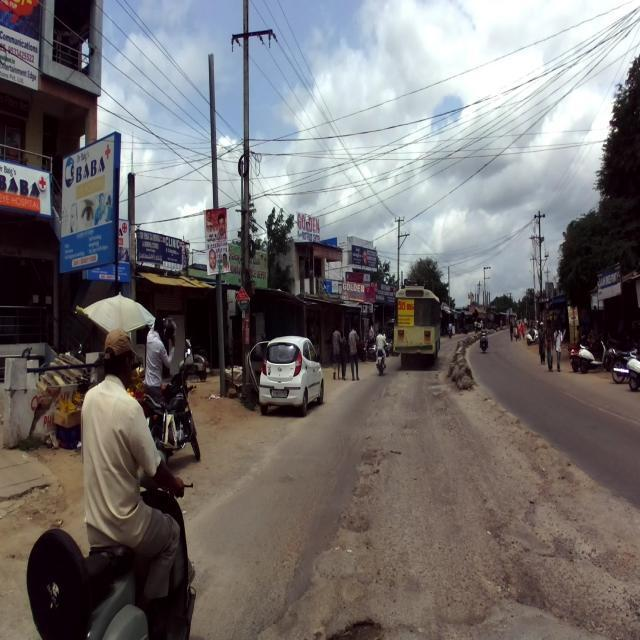Pothole: (492, 544, 578, 622), (312, 604, 394, 640), (346, 435, 389, 503)
